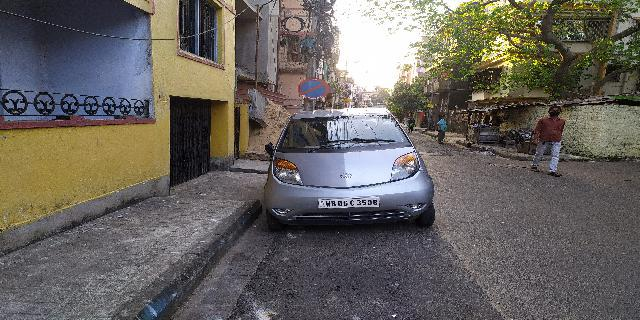Car: (261, 104, 438, 234)
